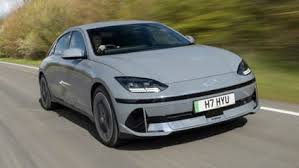car: (36, 19, 262, 147)
